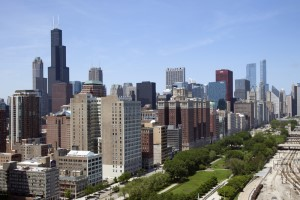willis: (47, 7, 71, 81)
